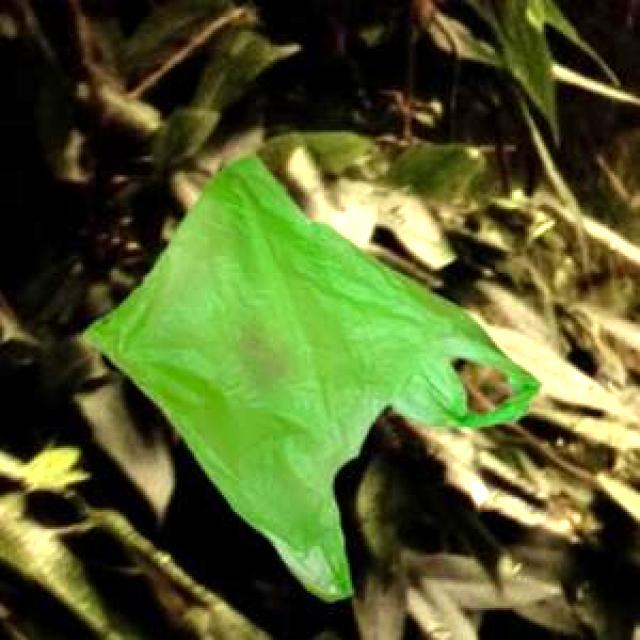Plastic_Bag: (82, 152, 537, 598)
